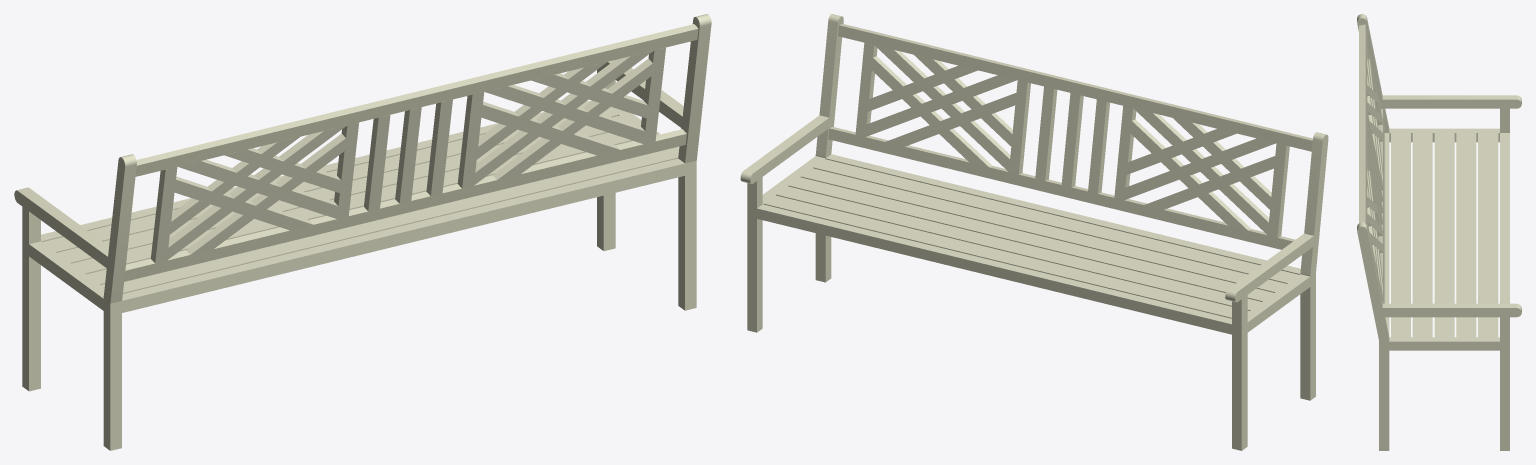
3 views of the same model, side by side, from view 1: azimuth 30°, elevation 25°; view 2: azimuth 150°, elevation 25°; view 3: azimuth 270°, elevation 25° (orthographic). The views are drawn at different scales.
Visible parts, largest first — view 1: mesh11_mesh11-geometry, mesh9_mesh9-geometry, mesh13_mesh13-geometry, mesh29_mesh29-geometry, mesh1_mesh1-geometry, mesh3_mesh3-geometry, mesh5_mesh5-geometry, mesh7_mesh7-geometry, mesh27_mesh27-geometry, mesh25_mesh25-geometry, mesh23_mesh23-geometry; view 2: mesh9_mesh9-geometry, mesh1_mesh1-geometry, mesh11_mesh11-geometry, mesh13_mesh13-geometry, mesh29_mesh29-geometry, mesh3_mesh3-geometry, mesh5_mesh5-geometry, mesh7_mesh7-geometry, mesh25_mesh25-geometry, mesh27_mesh27-geometry, mesh23_mesh23-geometry; view 3: mesh9_mesh9-geometry, mesh1_mesh1-geometry, mesh7_mesh7-geometry, mesh3_mesh3-geometry, mesh11_mesh11-geometry, mesh5_mesh5-geometry, mesh29_mesh29-geometry, mesh13_mesh13-geometry, mesh23_mesh23-geometry, mesh25_mesh25-geometry, mesh27_mesh27-geometry.
Boxes of the visible parts, box(x1,y1,x2,y2) form: mesh11_mesh11-geometry: box(124, 24, 698, 281); mesh9_mesh9-geometry: box(42, 108, 677, 293); mesh13_mesh13-geometry: box(457, 47, 665, 188); mesh29_mesh29-geometry: box(151, 122, 359, 263); mesh1_mesh1-geometry: box(29, 100, 684, 312); mesh3_mesh3-geometry: box(103, 14, 711, 450); mesh5_mesh5-geometry: box(22, 68, 615, 391); mesh7_mesh7-geometry: box(14, 60, 683, 267); mesh27_mesh27-geometry: box(364, 115, 390, 211); mesh25_mesh25-geometry: box(395, 107, 421, 203); mesh23_mesh23-geometry: box(426, 99, 452, 195); mesh9_mesh9-geometry: box(763, 159, 1298, 318); mesh1_mesh1-geometry: box(757, 154, 1310, 334); mesh11_mesh11-geometry: box(828, 24, 1312, 249); mesh13_mesh13-geometry: box(855, 42, 1030, 174); mesh29_mesh29-geometry: box(1114, 106, 1289, 237); mesh3_mesh3-geometry: box(815, 14, 1328, 400); mesh5_mesh5-geometry: box(747, 177, 1247, 450); mesh7_mesh7-geometry: box(740, 115, 1313, 302); mesh25_mesh25-geometry: box(1061, 93, 1083, 187); mesh27_mesh27-geometry: box(1088, 99, 1109, 193); mesh23_mesh23-geometry: box(1035, 86, 1057, 180); mesh9_mesh9-geometry: box(1391, 133, 1498, 337); mesh1_mesh1-geometry: box(1384, 128, 1509, 350); mesh7_mesh7-geometry: box(1382, 95, 1521, 317); mesh3_mesh3-geometry: box(1357, 14, 1389, 450); mesh11_mesh11-geometry: box(1359, 24, 1384, 303); mesh5_mesh5-geometry: box(1500, 108, 1509, 450); mesh29_mesh29-geometry: box(1367, 45, 1382, 190); mesh13_mesh13-geometry: box(1367, 156, 1382, 301); mesh23_mesh23-geometry: box(1367, 145, 1382, 224); mesh25_mesh25-geometry: box(1367, 134, 1382, 213); mesh27_mesh27-geometry: box(1367, 122, 1382, 201).
Size of the model in its own units: 0.861 by 0.4234 by 0.2817.
